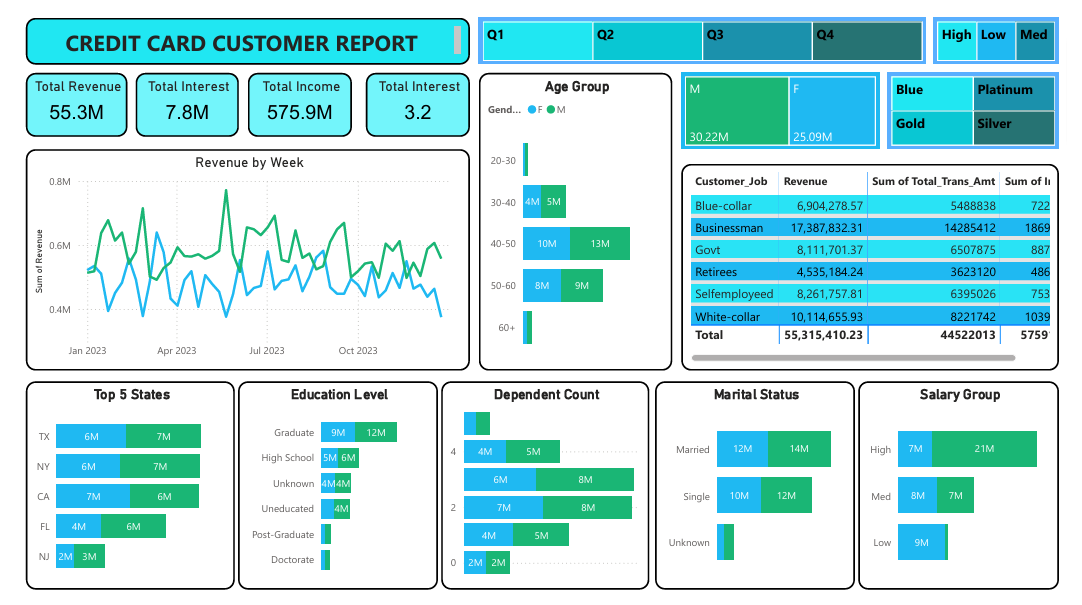

Layout of this report page (visuals, bound fields, positions):
{"tool":"powerbi","page":{"name":"cc_Customer","canvas":[1280,720],"ordinal":1},"visuals":[{"type":"textbox","box":[9.6,9.6,542,57.6],"z":0},{"type":"card","title":"Total Revenue","fields":{"Values":["Sum(credit_card.Revenue)"]},"box":[9.6,76.8,124.9,78.2],"z":1000},{"type":"card","title":"Total Interest","fields":{"Values":["Sum(credit_card.Interest_Earned)"]},"box":[144.1,76.8,126.2,78.2],"z":2000},{"type":"card","title":"Total Income","fields":{"Values":["Sum(customer.Income)"]},"box":[281.3,76.8,126.2,78.2],"z":3000},{"type":"card","title":"Total Interest","fields":{"Values":["Avg(customer.Cust_Satisfaction_Score)"]},"box":[425.4,76.8,126.2,78.2],"z":4000},{"type":"lineChart","title":"Revenue by Week","fields":{"Y":["Sum(credit_card.Revenue)"],"Series":["customer.Gender"],"Category":["credit_card.Week_Start_Date.Variation.Date Hierarchy.Year","credit_card.Week_Start_Date.Variation.Date Hierarchy.Month","credit_card.Week_Start_Date.Variation.Date Hierarchy.Day"]},"box":[9.6,170.2,542,270.3],"z":5000},{"type":"treemap","fields":{"Group":["customer.Gender"],"Values":["Sum(credit_card.Revenue)"]},"box":[809.6,76.8,242.9,93.3],"z":6000},{"type":"barChart","title":"Top 5 States","fields":{"Category":["customer.state_cd"],"Y":["Sum(credit_card.Revenue)"],"Series":["customer.Gender"]},"box":[9.6,452.8,255,253.9],"z":7000},{"type":"barChart","title":"Salary Group","fields":{"Y":["Sum(credit_card.Revenue)"],"Category":["customer.IncomeGroup"],"Series":["customer.Gender"]},"box":[1026.4,452.8,244.3,253.9],"z":8000},{"type":"barChart","title":"Marital Status","fields":{"Y":["Sum(credit_card.Revenue)"],"Category":["customer.Marital_Status"],"Series":["customer.Gender"]},"box":[778,452.8,244.3,253.9],"z":9000},{"type":"barChart","title":"Education Level","fields":{"Y":["Sum(credit_card.Revenue)"],"Category":["customer.Education_Level"],"Series":["customer.Gender"]},"box":[269,452.8,244.3,253.9],"z":10000},{"type":"barChart","title":"Age Group","fields":{"Y":["Sum(credit_card.Revenue)"],"Category":["customer.AgeGroup"],"Series":["customer.Gender"]},"box":[562.6,76.8,236,363.6],"z":11000},{"type":"barChart","title":"Dependent Count","fields":{"Y":["Sum(credit_card.Revenue)"],"Series":["customer.Gender"],"Category":["customer.Dependent_Count"]},"box":[517.3,452.8,254,253.9],"z":12000},{"type":"treemap","fields":{"Group":["credit_card.Qtr"],"Values":["Count(credit_card.Qtr)"]},"box":[562.6,9.6,546.1,57.6],"z":13000},{"type":"tableEx","fields":{"Values":["customer.Customer_Job","Sum(credit_card.Revenue)","Sum(credit_card.Total_Trans_Amt)","Sum(customer.Income)"]},"box":[809.6,188,461.1,252.5],"z":14000},{"type":"treemap","fields":{"Group":["customer.IncomeGroup"],"Values":["Count(credit_card.Qtr)"]},"box":[1118.4,9.6,152.3,57.6],"z":15000},{"type":"treemap","fields":{"Values":["Count(customer.Gender)"],"Group":["credit_card.Card_Category"]},"box":[1062.1,76.8,208.6,93.3],"z":16000}]}

Visuals, with their boxes in screenshot pixels (x1, y1, x2, y2), scaled from the page's 1280x720 canvas onto the 1082x605 screenshot:
textbox: bbox(8, 8, 466, 56)
"Total Revenue" card: bbox(8, 65, 114, 130)
"Total Interest" card: bbox(122, 65, 228, 130)
"Total Income" card: bbox(238, 65, 344, 130)
"Total Interest" card: bbox(360, 65, 466, 130)
"Revenue by Week" lineChart: bbox(8, 143, 466, 370)
treemap - customer.Gender x Sum(credit_card.Revenue): bbox(684, 65, 890, 143)
"Top 5 States" barChart: bbox(8, 380, 224, 594)
"Salary Group" barChart: bbox(868, 380, 1074, 594)
"Marital Status" barChart: bbox(658, 380, 864, 594)
"Education Level" barChart: bbox(227, 380, 434, 594)
"Age Group" barChart: bbox(476, 65, 675, 370)
"Dependent Count" barChart: bbox(437, 380, 652, 594)
treemap - credit_card.Qtr x Count(credit_card.Qtr): bbox(476, 8, 937, 56)
tableEx - customer.Customer_Job x Sum(credit_card.Revenue): bbox(684, 158, 1074, 370)
treemap - customer.IncomeGroup x Count(credit_card.Qtr): bbox(945, 8, 1074, 56)
treemap - Count(customer.Gender) x credit_card.Card_Category: bbox(898, 65, 1074, 143)
